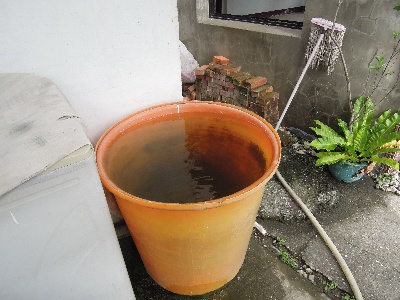bucket: (91, 99, 284, 295)
